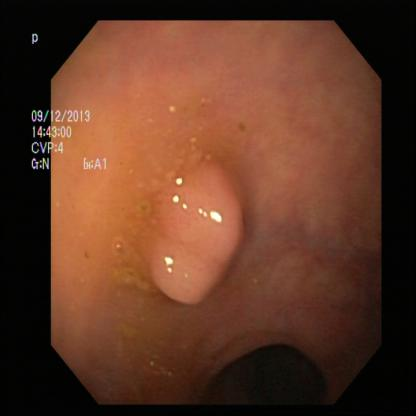Labels: (30, 98, 113, 184), (25, 25, 53, 62)
Polyps: (138, 146, 251, 302)
